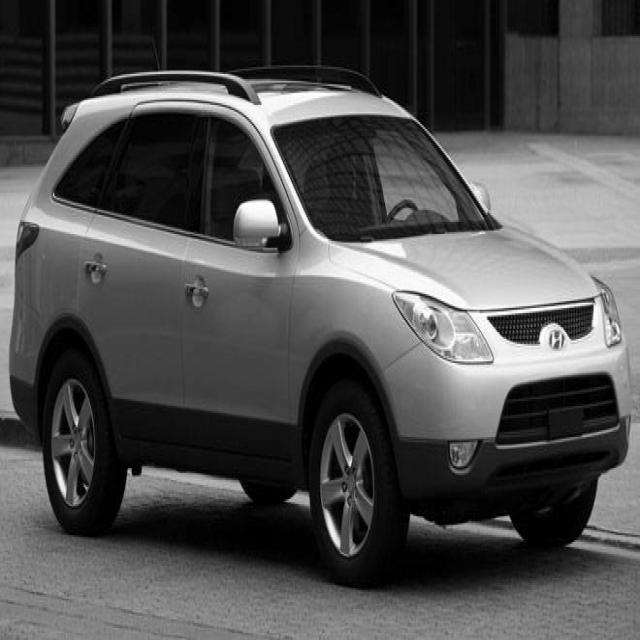car: (8, 61, 632, 588)
